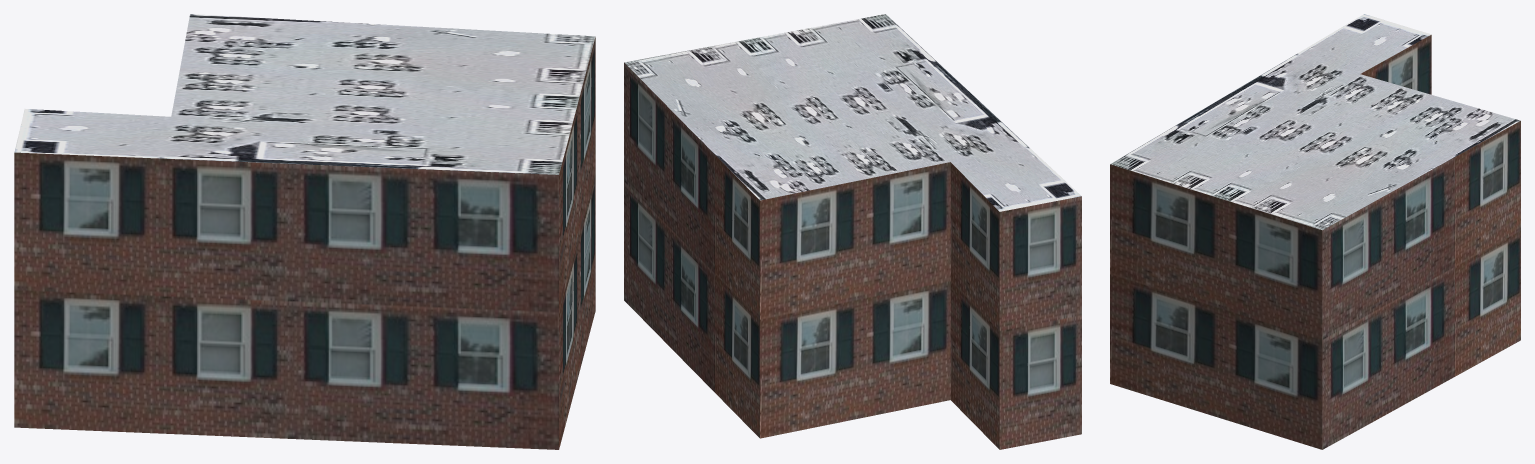
Rendered from ResTex__5047.fbx.
3 views of the same model, side by side, from view 1: azimuth 30°, elevation 25°; view 2: azimuth 150°, elevation 25°; view 3: azimuth 270°, elevation 25° (orthographic). The views are drawn at different scales.
Parts seen in each view (by area): view 1: CityEngineMaterial_14_m, CityEngineMaterial_2_m; view 2: CityEngineMaterial_14_m, CityEngineMaterial_2_m; view 3: CityEngineMaterial_14_m, CityEngineMaterial_2_m.
Boxes of the visible parts, x1,y1,x2,y2 form: CityEngineMaterial_14_m: [14, 37, 595, 449]; CityEngineMaterial_2_m: [14, 14, 595, 174]; CityEngineMaterial_14_m: [624, 62, 1081, 449]; CityEngineMaterial_2_m: [624, 14, 1081, 211]; CityEngineMaterial_14_m: [1110, 35, 1520, 449]; CityEngineMaterial_2_m: [1110, 14, 1520, 230].
Bounding box in the file's own units: 12.67 × 6 × 10.17.
2 materials, 2 textured.
